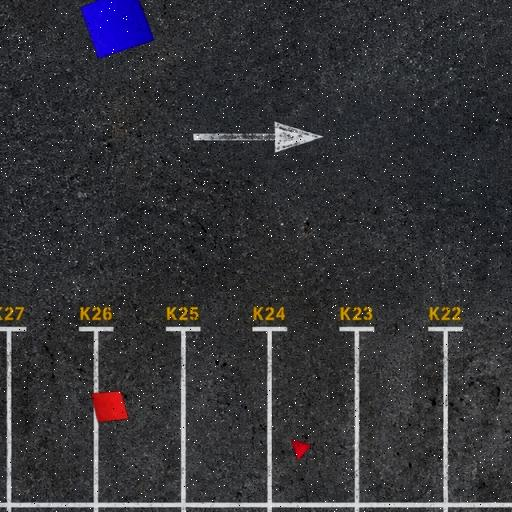BLUE_SQUARE: (79, 0, 155, 59)
RED_SQUARE: (90, 390, 130, 424)
